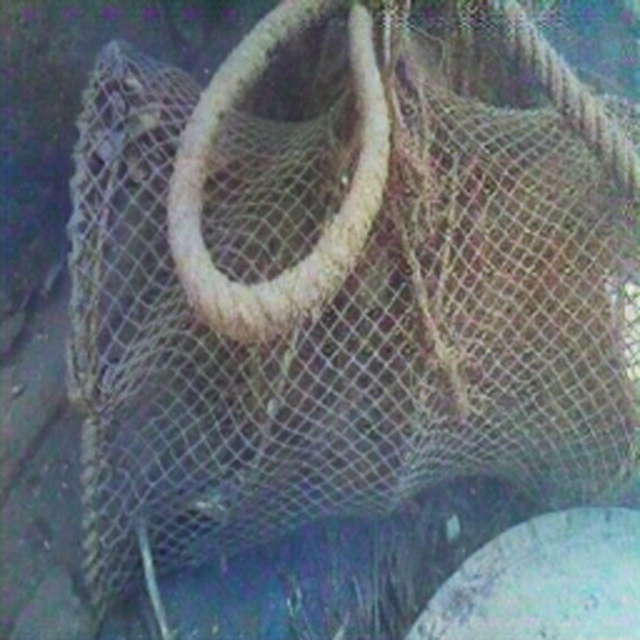mine: (67, 36, 639, 626)
